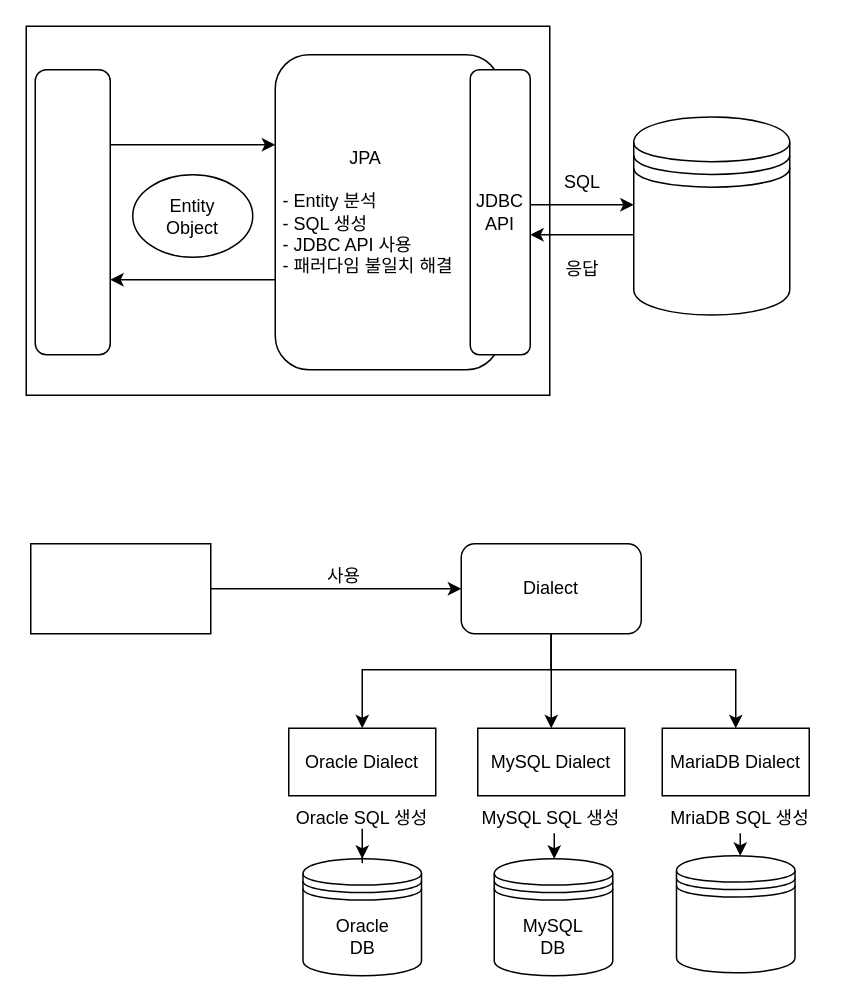
The diagram is 861 pixels wide and 1002 high, and some of its shapes have lost their labels. The centre of each missing label's shape, as x and y in pixels:
DAO: [72,211]
DB: [711,215]
JPA: [120,588]
MariaDB: [735,913]
